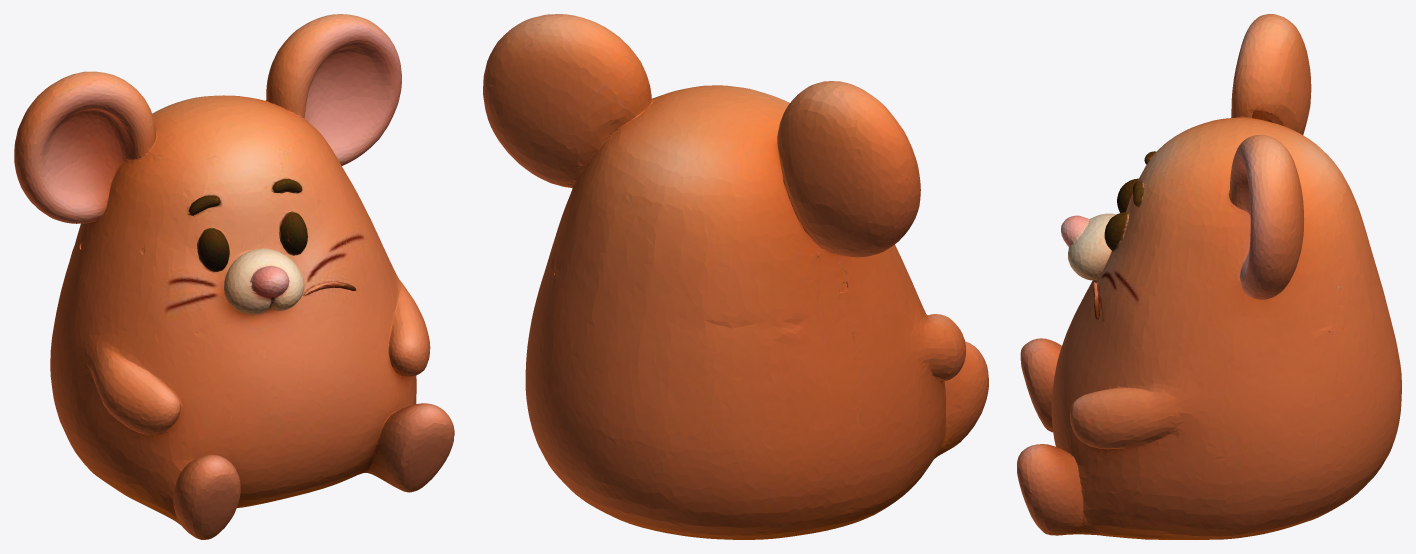
The model's file is AnimePistol_Textured_00076_.glb.
The picture shows the model from 3 angles, left to right: view 1: azimuth 30°, elevation 25°; view 2: azimuth 150°, elevation 25°; view 3: azimuth 270°, elevation 25°; orthographic projection. The views are drawn at different scales.
Visible parts, largest first — view 1: world; view 2: world; view 3: world.
Boxes of the visible parts, <box> form: world: <box>14,14,454,539</box>; world: <box>483,14,988,539</box>; world: <box>1017,14,1401,539</box>.
Bounding box in the file's own units: 0.9872 × 1 × 0.8492.
Materials: 1 (1 with a texture image).
